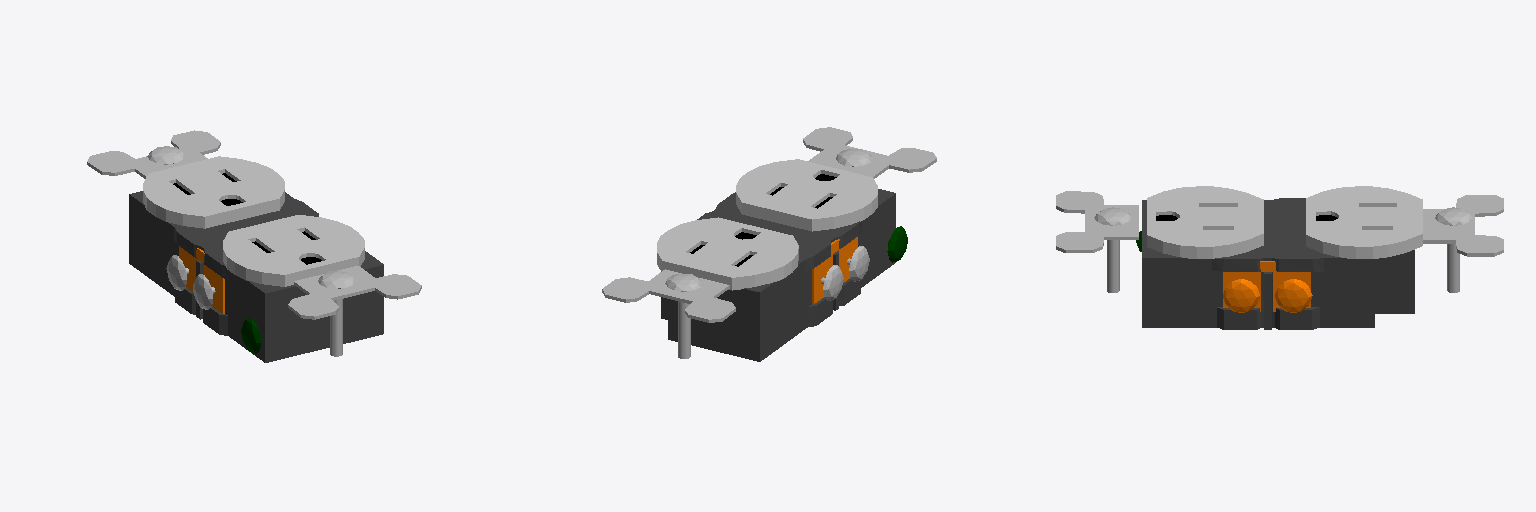
File: Receptical.obj
3 renders of one model, left to right at view 1: azimuth 30°, elevation 25°; view 2: azimuth 150°, elevation 25°; view 3: azimuth 270°, elevation 25°, orthographic.
Visible parts, largest first — view 1: Cube, Cube.004_Cube.005, Cube.003, Plane.003, Plane.002, Cube.002, Cylinder.006, Icosphere, Icosphere.002, Icosphere.005; view 2: Cube, Cube.003, Cube.004_Cube.005, Plane.002, Plane.003, Cube.002, Cylinder.007, Icosphere, Icosphere.002, Icosphere.005; view 3: Cube, Cube.004_Cube.005, Cube.003, Plane.003, Plane.002, Cube.001, Icosphere.003, Icosphere.004, Cylinder.006, Cylinder.007.
Part boxes in pixels (bbox=[...]): Cube: bbox=[129, 191, 383, 362]; Cube.004_Cube.005: bbox=[143, 156, 284, 228]; Cube.003: bbox=[223, 215, 364, 286]; Plane.003: bbox=[288, 266, 421, 319]; Plane.002: bbox=[87, 130, 220, 178]; Cube.002: bbox=[179, 246, 224, 313]; Cylinder.006: bbox=[330, 299, 342, 356]; Icosphere: bbox=[166, 255, 186, 290]; Icosphere.002: bbox=[193, 274, 212, 309]; Icosphere.005: bbox=[241, 318, 261, 353]; Cube: bbox=[661, 189, 895, 361]; Cube.003: bbox=[736, 159, 877, 231]; Cube.004_Cube.005: bbox=[657, 217, 798, 290]; Plane.002: bbox=[602, 269, 735, 322]; Plane.003: bbox=[803, 127, 936, 178]; Cube.002: bbox=[812, 237, 857, 304]; Cylinder.007: bbox=[678, 291, 690, 358]; Icosphere: bbox=[823, 265, 843, 300]; Icosphere.002: bbox=[849, 246, 869, 281]; Icosphere.005: bbox=[887, 226, 907, 262]; Cube: bbox=[1142, 198, 1414, 329]; Cube.004_Cube.005: bbox=[1306, 186, 1422, 258]; Cube.003: bbox=[1147, 186, 1263, 258]; Plane.003: bbox=[1056, 191, 1138, 252]; Plane.002: bbox=[1423, 195, 1503, 256]; Cube.001: bbox=[1223, 261, 1310, 311]; Icosphere.003: bbox=[1275, 279, 1312, 312]; Icosphere.004: bbox=[1223, 279, 1259, 312]; Cylinder.006: bbox=[1107, 240, 1119, 292]; Cylinder.007: bbox=[1447, 225, 1459, 292].
Bounding box in the file's own units: 1.96 × 1.03 × 4.96.